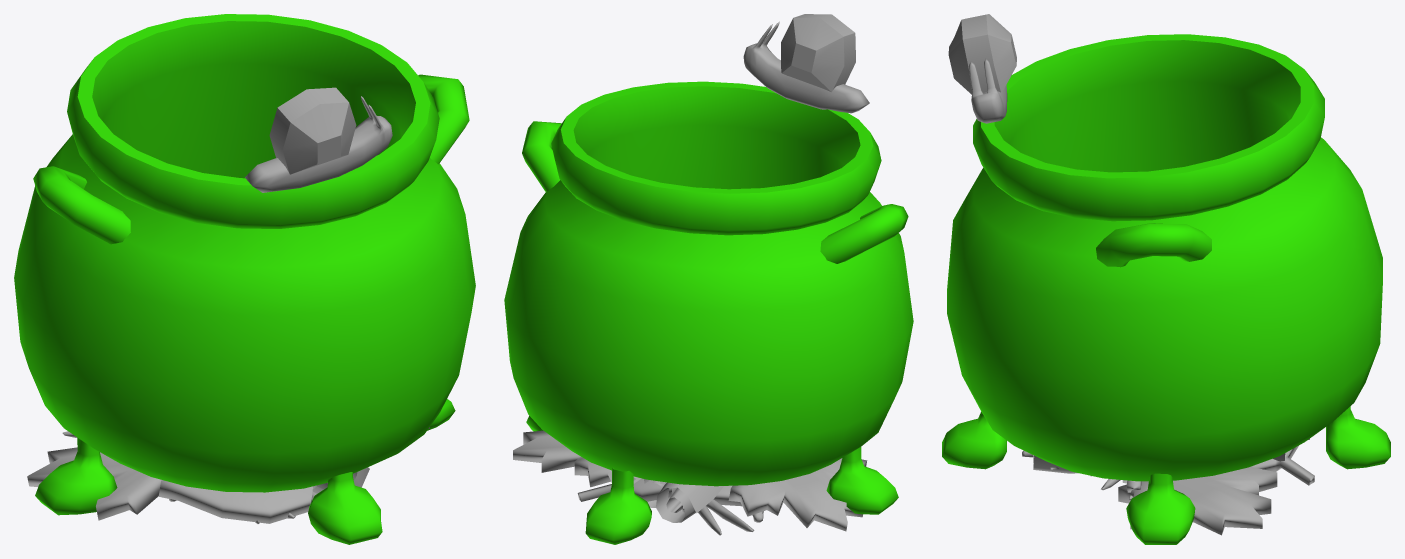
File: Extra Decorations.fbx
The picture shows the model from 3 angles, left to right: view 1: azimuth 30°, elevation 25°; view 2: azimuth 150°, elevation 25°; view 3: azimuth 270°, elevation 25°; orthographic projection. The views are drawn at different scales.
Visible parts, largest first — view 1: Cauldron_model, abandoned_cauldron_model, leaf_pile_model; view 2: Cauldron_model, abandoned_cauldron_model, leaf_pile_model, scroll_bunch_model, stick_pile_model; view 3: Cauldron_model, abandoned_cauldron_model, leaf_pile_model.
Part boxes in pixels (box(x1,y1,x2,y2)): Cauldron_model: box(14, 14, 475, 544); abandoned_cauldron_model: box(33, 20, 457, 540); leaf_pile_model: box(27, 427, 429, 523); Cauldron_model: box(504, 81, 913, 535); abandoned_cauldron_model: box(522, 14, 905, 544); leaf_pile_model: box(513, 430, 867, 531); scroll_bunch_model: box(607, 470, 723, 522); stick_pile_model: box(698, 499, 763, 535); Cauldron_model: box(942, 34, 1385, 544); abandoned_cauldron_model: box(948, 14, 1390, 544); leaf_pile_model: box(1050, 445, 1314, 535).
Bounding box in the file's own units: 0.599 × 0.6122 × 0.577.
